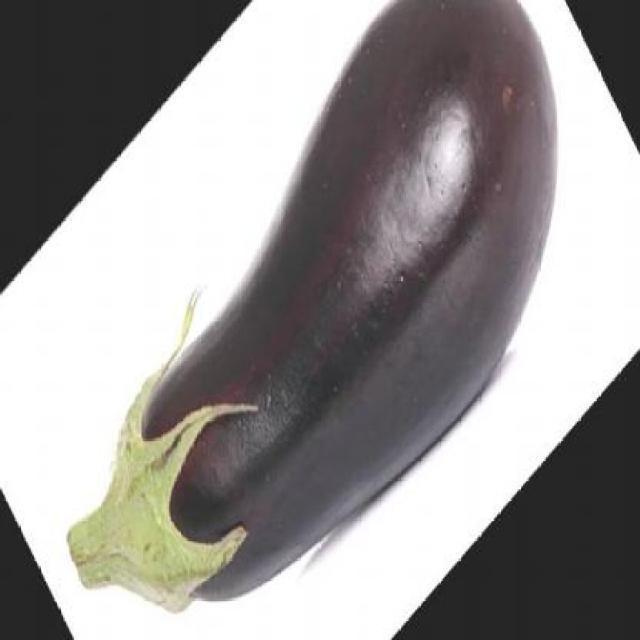eggplant: (54, 0, 631, 638)
